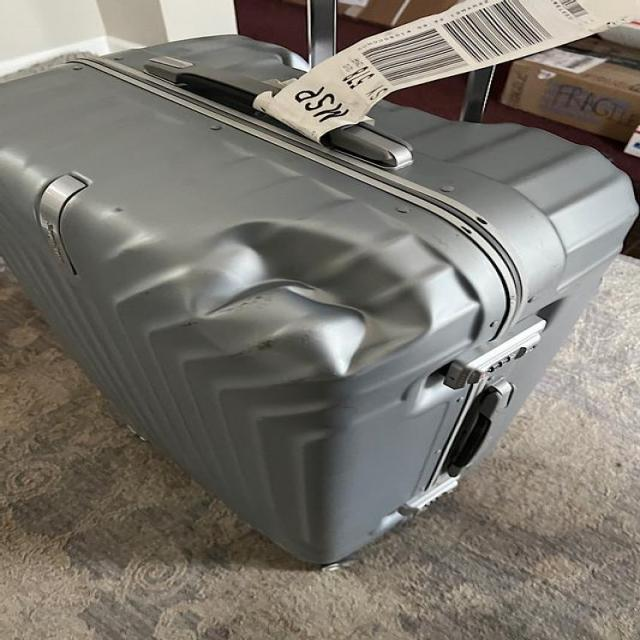Damage-bag: (118, 221, 484, 394)
